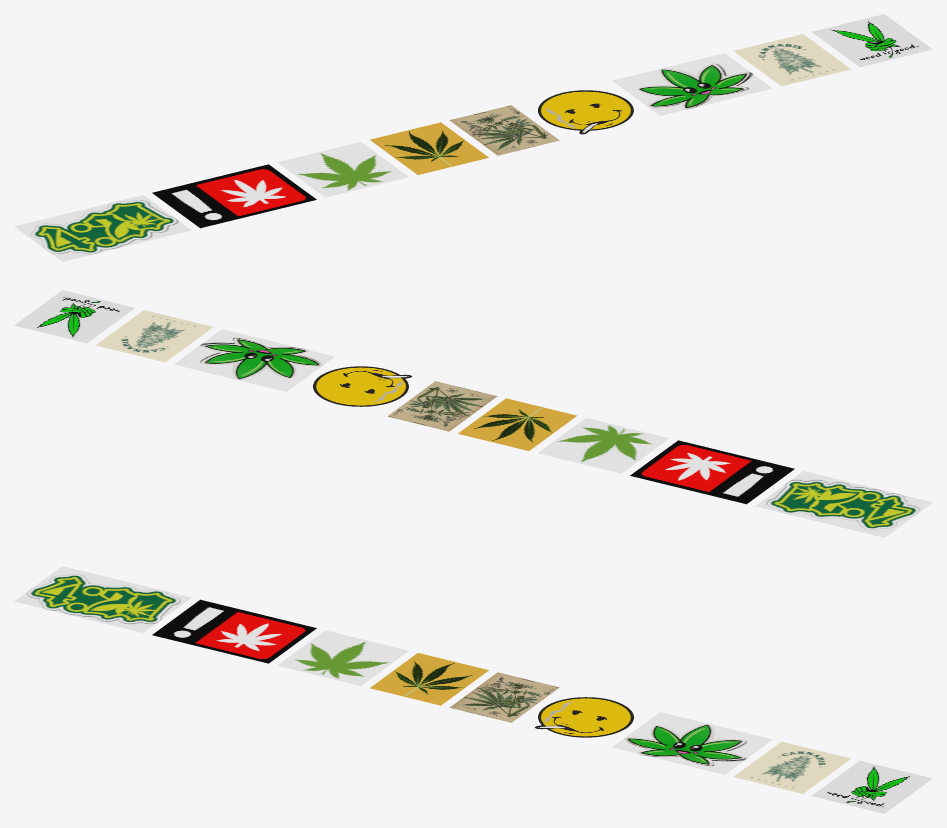
Rendered from cannabisposters.fbx.
3 views of the same model, one above another, from view 1: azimuth 30°, elevation 25°; view 2: azimuth 150°, elevation 25°; view 3: azimuth 330°, elevation 25° (orthographic).
Visible parts, largest first — view 1: 420sticker, cannabis-warning-label, smileyweed, marijuana_leaf, weedisgood-stickers, potleaf, vintage-cannabis-poster, smileystoner, scientificcannabis; view 2: 420sticker, cannabis-warning-label, smileyweed, marijuana_leaf, weedisgood-stickers, potleaf, vintage-cannabis-poster, smileystoner, scientificcannabis; view 3: 420sticker, cannabis-warning-label, smileyweed, marijuana_leaf, weedisgood-stickers, potleaf, vintage-cannabis-poster, smileystoner, scientificcannabis.
Part boxes in pixels (<box>): 420sticker: <box>14,195,191,261</box>; cannabis-warning-label: <box>152,164,316,228</box>; smileyweed: <box>612,53,772,115</box>; marijuana_leaf: <box>277,142,408,197</box>; weedisgood-stickers: <box>812,14,932,67</box>; potleaf: <box>370,122,488,174</box>; vintage-cannabis-poster: <box>733,34,850,86</box>; smileystoner: <box>538,90,633,134</box>; scientificcannabis: <box>449,105,559,155</box>; 420sticker: <box>755,471,932,537</box>; cannabis-warning-label: <box>630,440,794,504</box>; smileyweed: <box>174,329,334,391</box>; marijuana_leaf: <box>538,418,669,473</box>; weedisgood-stickers: <box>14,290,134,343</box>; potleaf: <box>458,398,576,450</box>; vintage-cannabis-poster: <box>96,310,213,362</box>; smileystoner: <box>313,366,411,406</box>; scientificcannabis: <box>387,381,497,431</box>; 420sticker: <box>14,566,191,632</box>; cannabis-warning-label: <box>152,599,316,663</box>; smileyweed: <box>612,712,772,774</box>; marijuana_leaf: <box>277,630,408,685</box>; weedisgood-stickers: <box>812,760,932,813</box>; potleaf: <box>370,653,488,705</box>; vintage-cannabis-poster: <box>733,741,850,793</box>; smileystoner: <box>535,697,633,737</box>; scientificcannabis: <box>449,672,559,722</box>.
Bounding box in the file's own units: 1037 × 1.63e-05 × 100.
